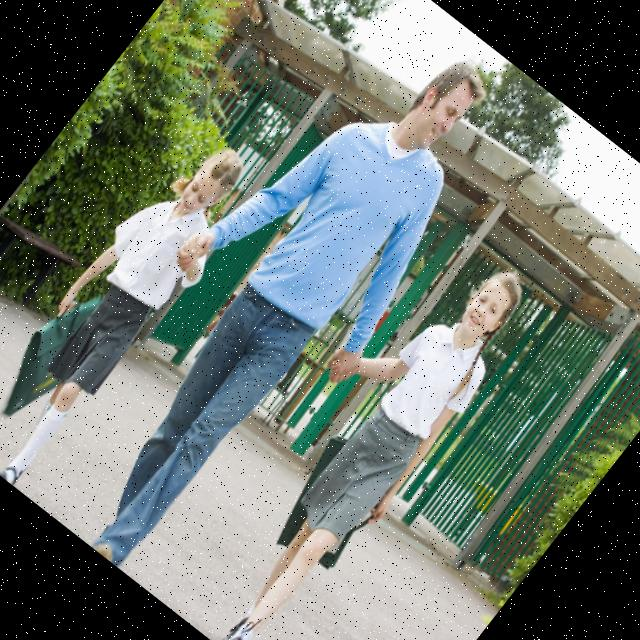Person: (1, 0, 547, 608), (151, 217, 551, 640), (0, 120, 277, 499)
